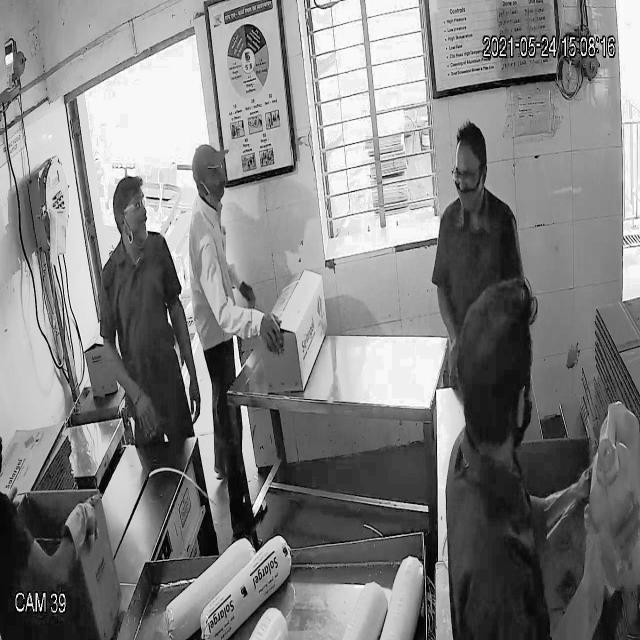glasses: (450, 157, 488, 191), (118, 194, 152, 226)
